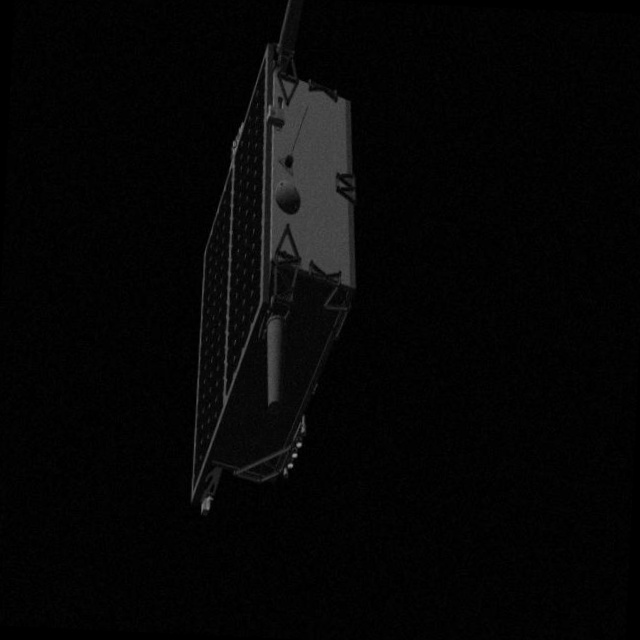medium_debris: (168, 0, 379, 530)
